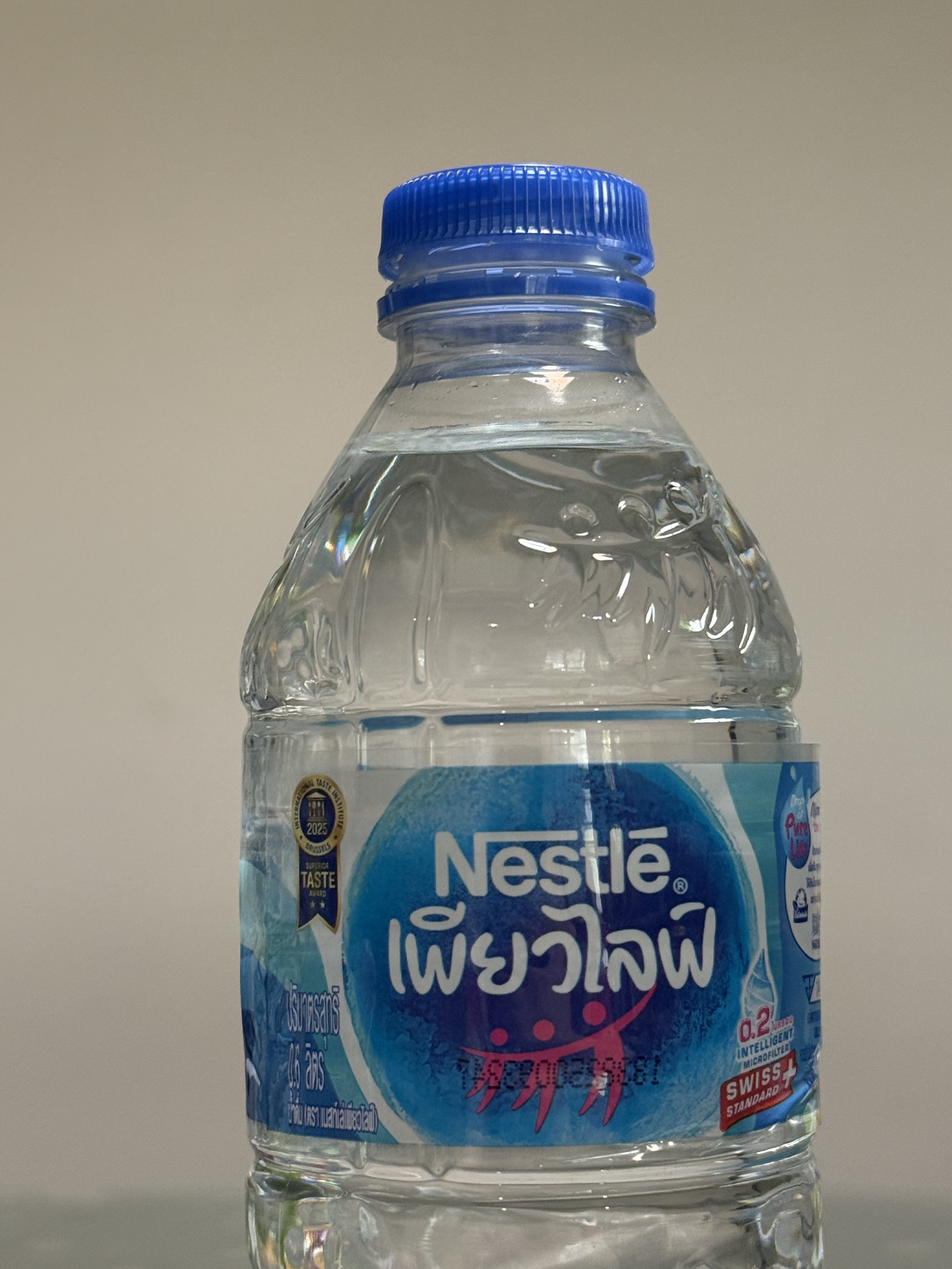half_cap: (367, 155, 663, 336)
